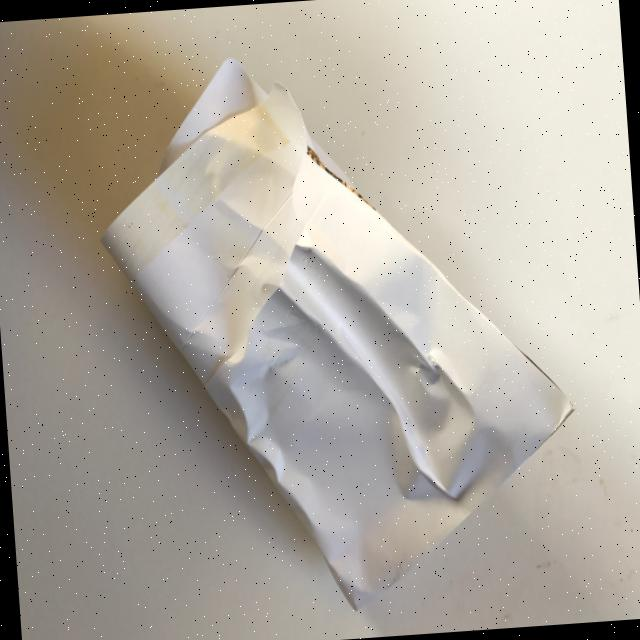paper: (88, 36, 587, 626)
